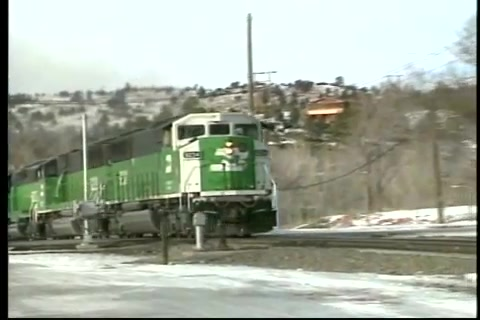train: (8, 111, 279, 240)
